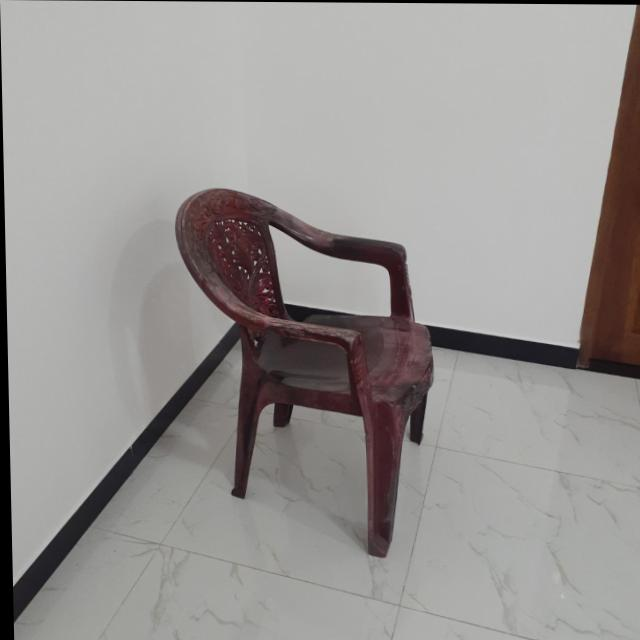Chair: (173, 184, 440, 556)
